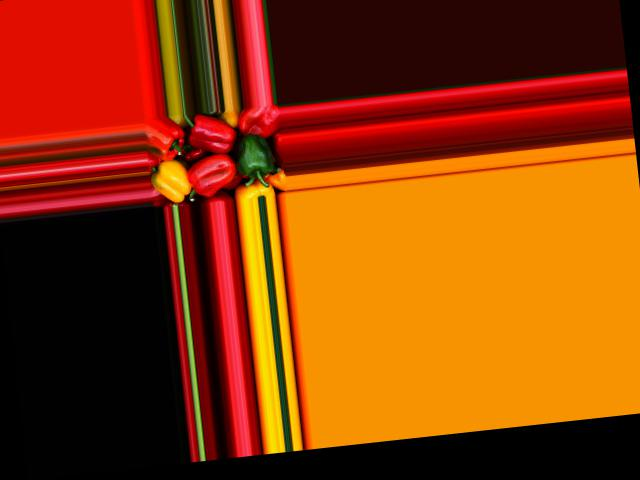bell_pepper: (148, 154, 195, 207)
